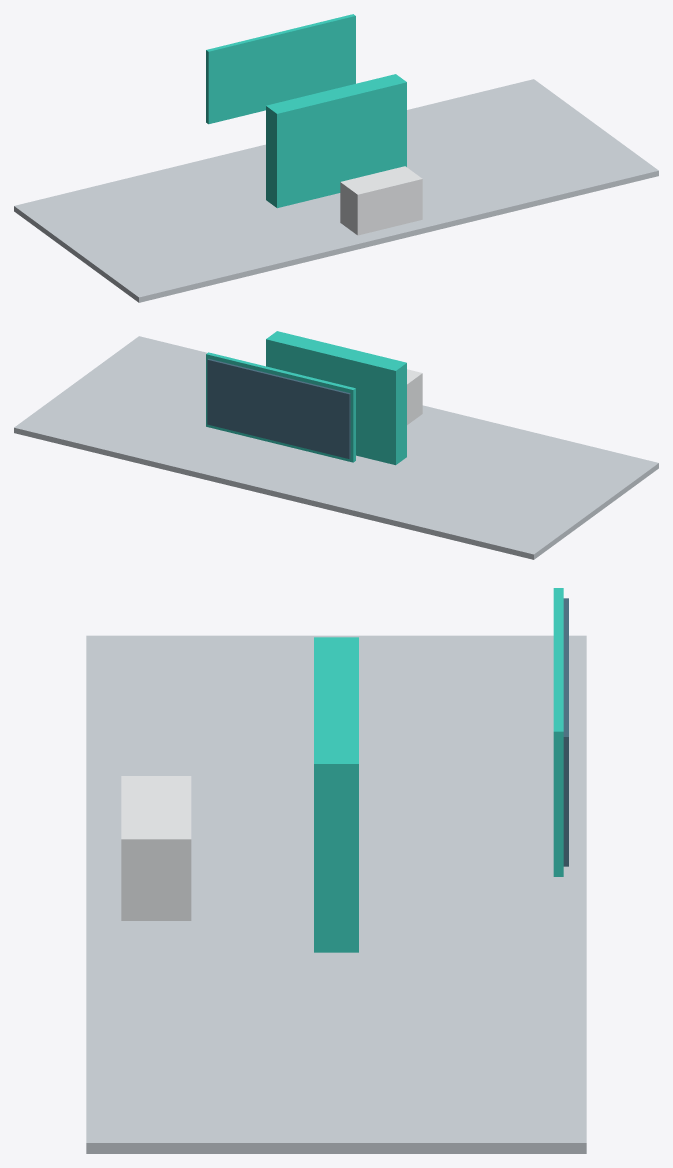
The picture shows the model from 3 angles, top to bottom: view 1: azimuth 30°, elevation 25°; view 2: azimuth 150°, elevation 25°; view 3: azimuth 270°, elevation 25°; orthographic projection. The views are drawn at different scales.
Parts seen in each view (by area): view 1: Exhibition Booth Concept; view 2: Exhibition Booth Concept; view 3: Exhibition Booth Concept.
Boxes of the visible parts, <box> form: Exhibition Booth Concept: <box>14,14,658,302</box>; Exhibition Booth Concept: <box>14,331,658,559</box>; Exhibition Booth Concept: <box>86,588,586,1153</box>.
Bounding box in the file's own units: 12 × 2.65 × 5.
